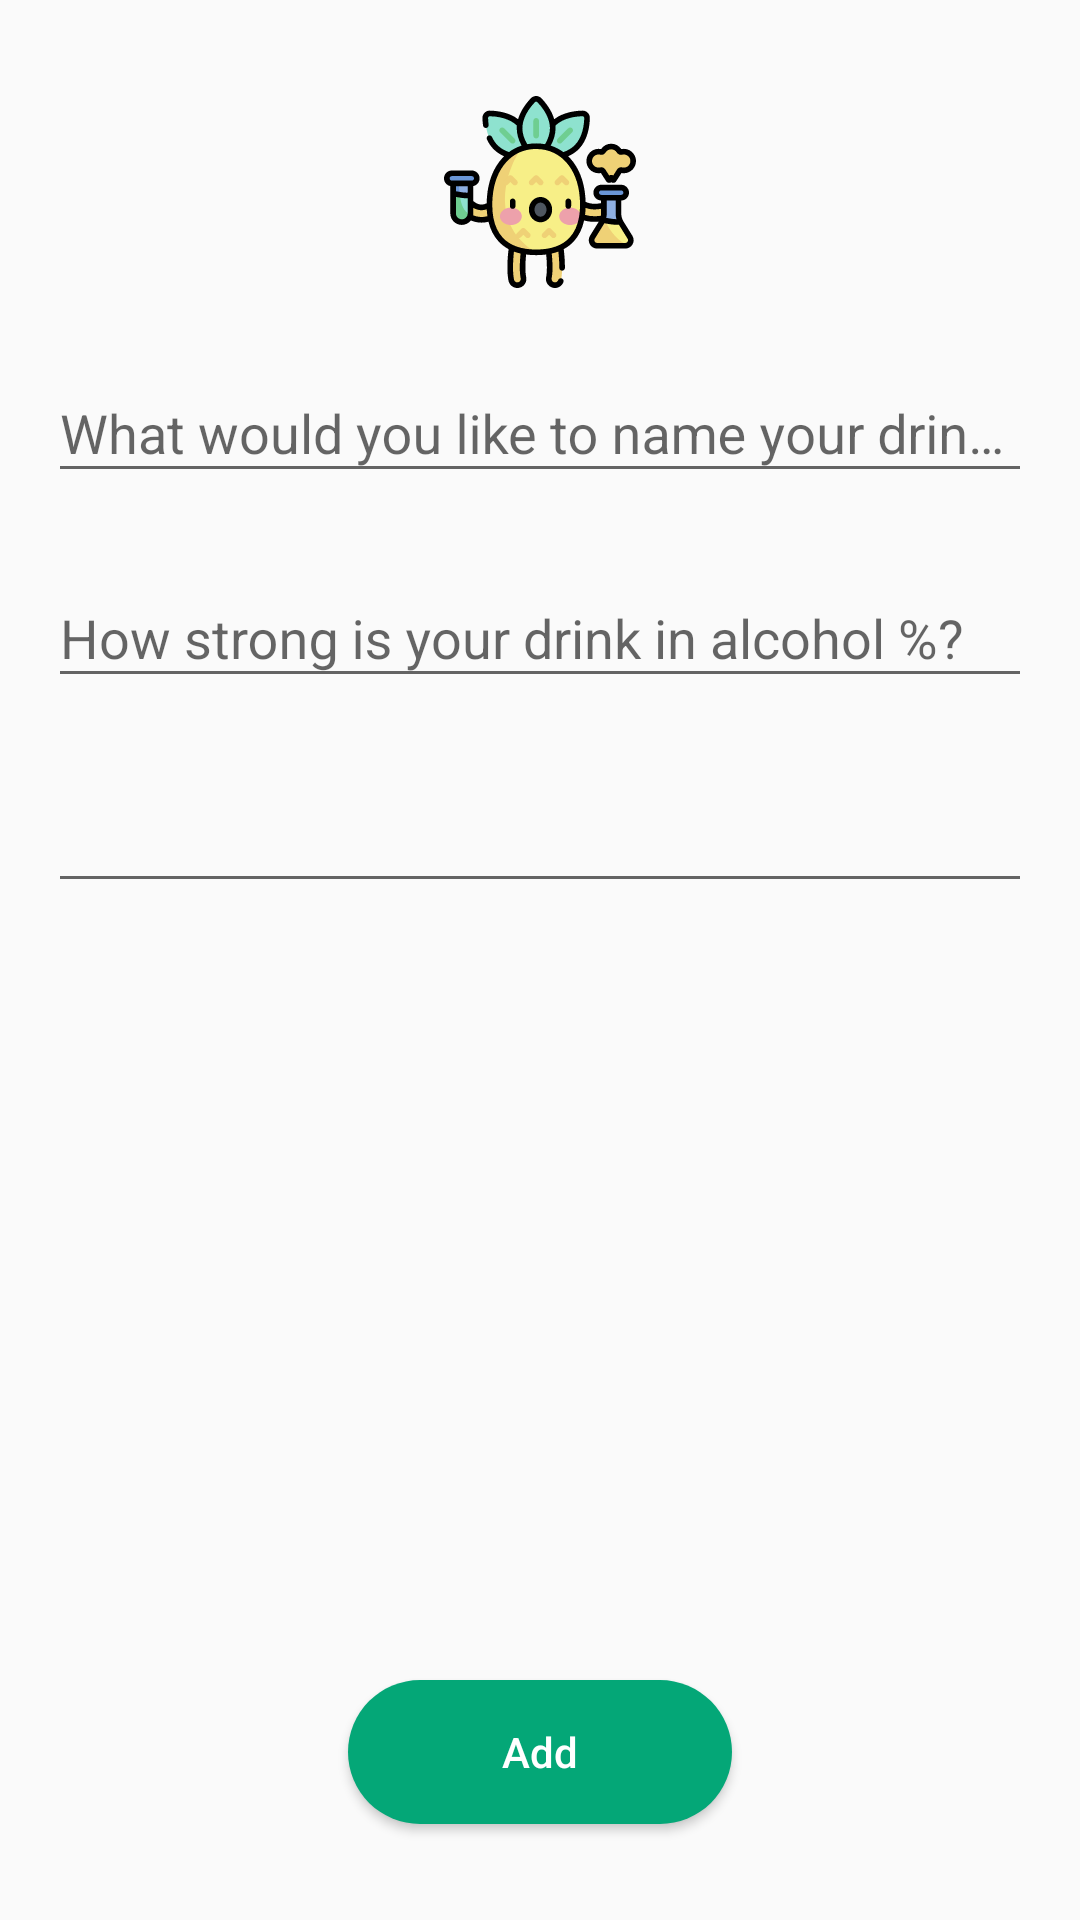

Where to tap for icons on this 1080px x 1920px app screen, as (x=x, y=y):
pineapple scientific: (x=540, y=192)
